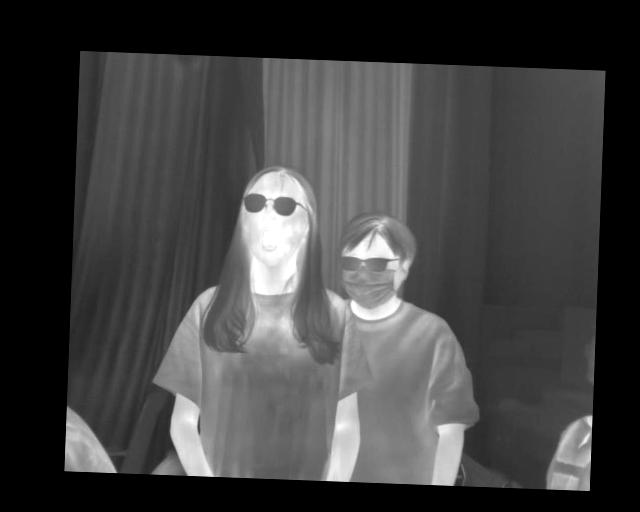face: (236, 165, 315, 269), (338, 210, 416, 311)
